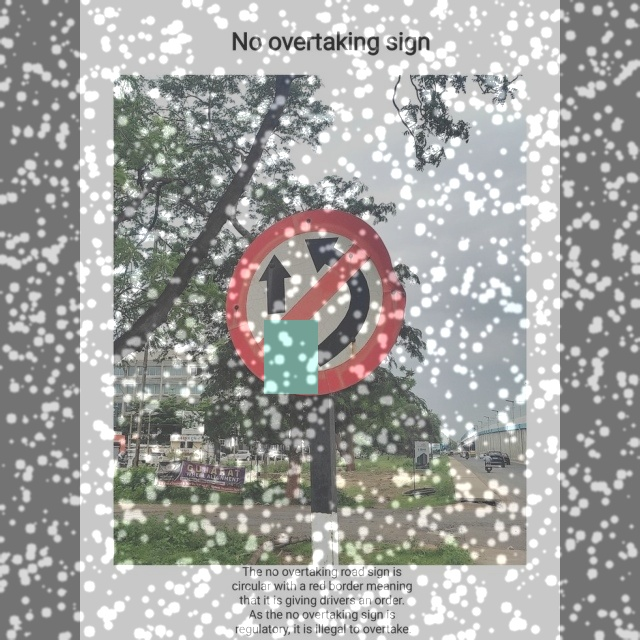Overtaking_Prohibited: (231, 207, 404, 397)
